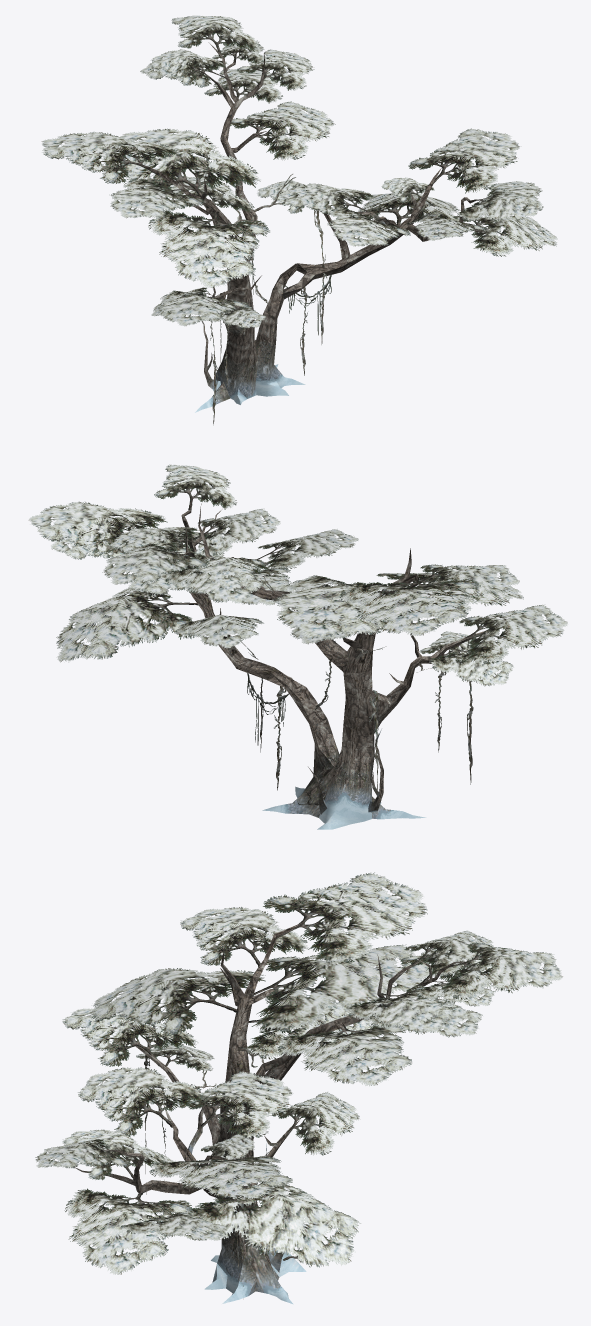
File: 2005_Item_shu_2.FBX
The picture shows the model from 3 angles, top to bottom: view 1: azimuth 30°, elevation 25°; view 2: azimuth 150°, elevation 25°; view 3: azimuth 270°, elevation 25°; orthographic projection. The views are drawn at different scales.
Visible parts, largest first — view 1: 2005_Item_shu_2; view 2: 2005_Item_shu_2; view 3: 2005_Item_shu_2.
Boxes of the visible parts, x1=… form: 2005_Item_shu_2: x1=41, y1=15, x2=557, y2=425; 2005_Item_shu_2: x1=28, y1=464, x2=567, y2=829; 2005_Item_shu_2: x1=35, y1=872, x2=562, y2=1304.
Size of the model in its own units: 1429 by 841 by 1171.
